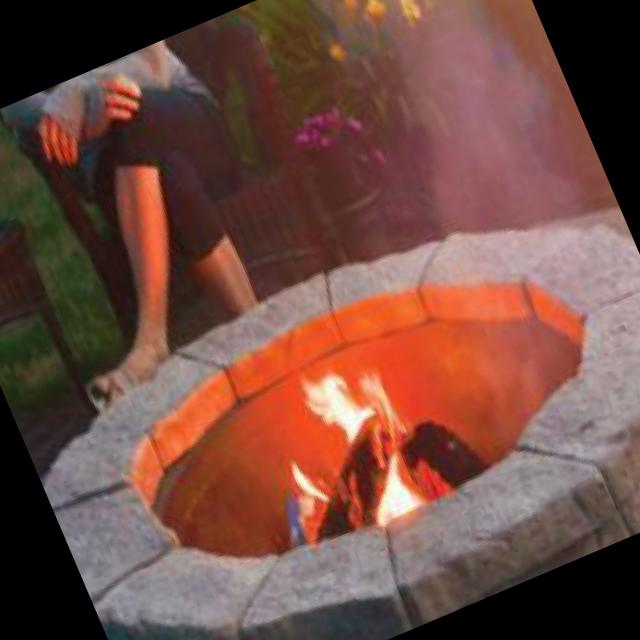fire: (282, 334, 463, 542)
smoke: (341, 0, 640, 399)
